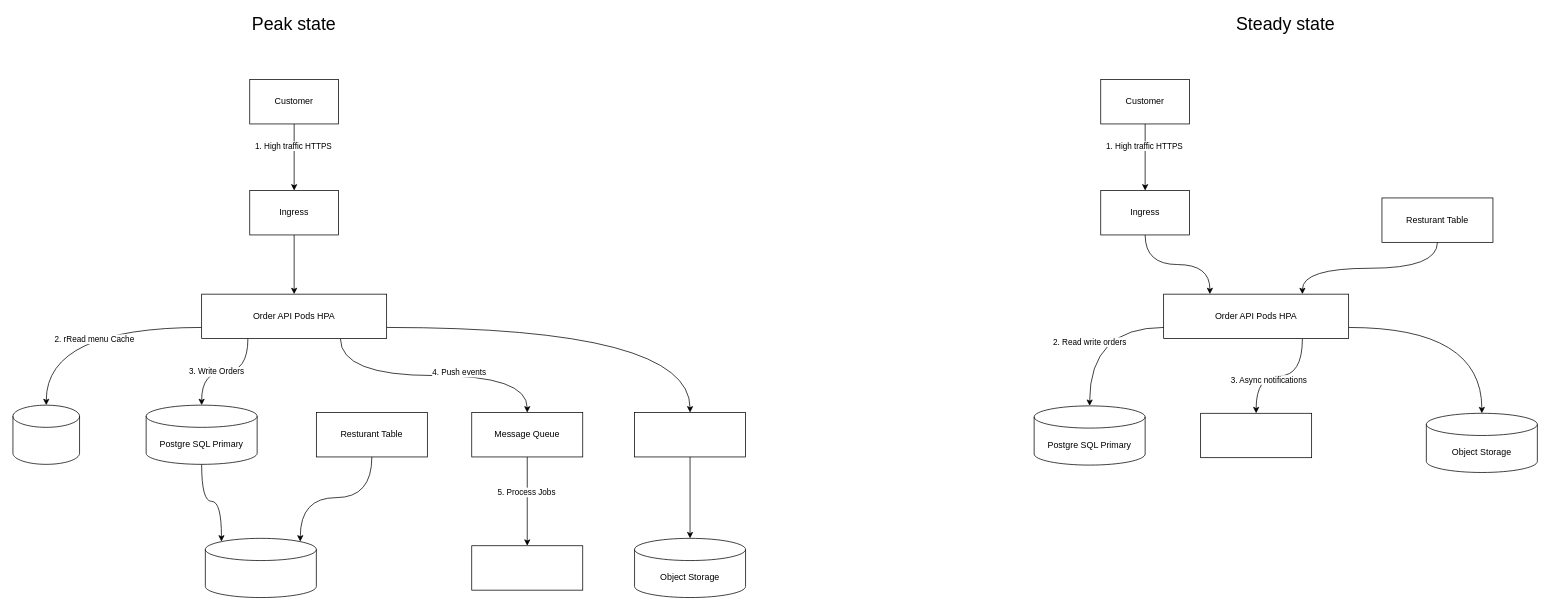
This 1550x611 diagram has some shape labels left out. The box of each missing label's shape, as (x1, y1, x2, y2) in pixels:
CDN: (634, 412, 746, 457)
Notification worker: (1200, 413, 1312, 458)
Read replica: (205, 538, 316, 598)
Redis Cache: (12, 404, 80, 464)
Worker pool: (471, 545, 583, 590)
